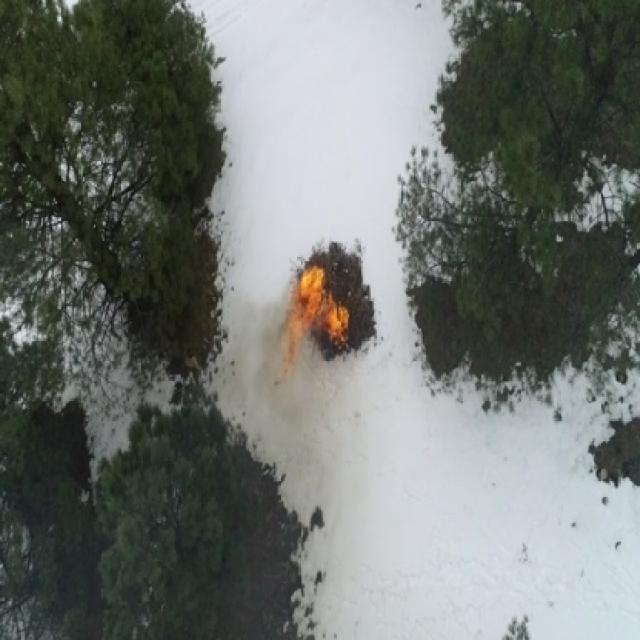Fire: (323, 290, 349, 349), (298, 270, 325, 318), (302, 308, 352, 329), (290, 314, 300, 362)
